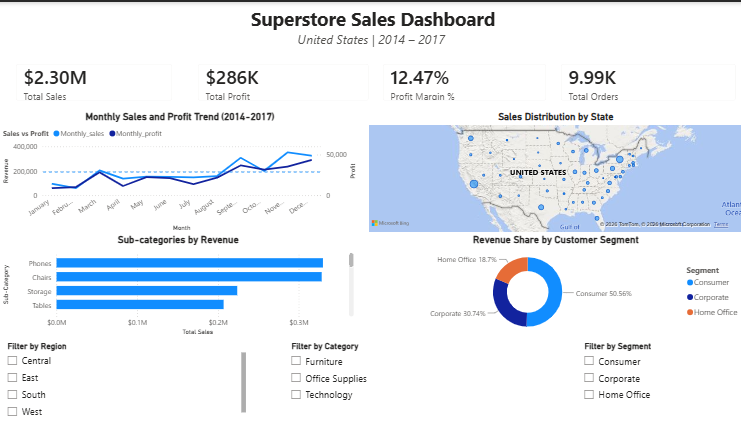

Layout of this report page (visuals, bound fields, positions):
{"tool":"powerbi","page":{"name":"Page 1","canvas":[1280,720],"ordinal":0},"visuals":[{"type":"cardVisual","fields":{"Data":["Sample - Superstore.Total Sales"]},"box":[10.1,89,302.4,97.4],"z":0},{"type":"cardVisual","fields":{"Data":["Sample - Superstore.Total Profit"]},"box":[322.5,89,327.6,97.4],"z":1000},{"type":"cardVisual","fields":{"Data":["Sample - Superstore.Profit Margin %"]},"box":[640,89,314.1,97.4],"z":2000},{"type":"cardVisual","fields":{"Data":["Sample - Superstore.Total Orders"]},"box":[945.7,89,334.3,97.4],"z":3000},{"type":"lineChart","title":"Monthly Sales and Profit Trend (2014-2017)","fields":{"Y":["Sum(Monthly_trend. Monthly_sales )"],"Y2":["Sum(Monthly_trend. Monthly_profit )"],"Category":["Monthly_trend.Column3.Variation.Date Hierarchy.Month"]},"box":[0,186.3,616.9,211.9],"z":4000},{"type":"clusteredBarChart","title":"Sub-categories by Revenue","fields":{"Category":["Sample - Superstore.Sub-Category"],"Y":["Sample - Superstore.Total Sales"]},"box":[0,398.2,611.8,179.4],"z":5000},{"type":"map","title":"Sales Distribution by State","fields":{"Category":["Sample - Superstore.State"],"Size":["Sample - Superstore.Total Sales"]},"box":[628.2,186.5,651.8,211.7],"z":6000},{"type":"donutChart","title":"Revenue Share by Customer Segment","fields":{"Y":["Sample - Superstore.Total Sales"],"Category":["Sample - Superstore.Segment"]},"box":[628.2,398.1,651.8,179.7],"z":7000},{"type":"slicer","fields":{"Values":["Sample - Superstore.Region"]},"box":[0,577.8,426.7,142.8],"z":8000},{"type":"slicer","fields":{"Values":["Sample - Superstore.Category"]},"box":[487.1,577.8,409.9,142.8],"z":9000},{"type":"slicer","fields":{"Values":["Sample - Superstore.Segment"]},"box":[989.4,577.8,290.6,142.8],"z":10000},{"type":"textbox","box":[0,1.7,1280,87.3],"z":11000}]}

Visuals, with their boxes in screenshot pixels (x1, y1, x2, y2), scaled from the page's 1280x720 canvas onto the 741x421 screenshot:
cardVisual - Sample - Superstore.Total Sales: l=6, t=52, r=181, b=109
cardVisual - Sample - Superstore.Total Profit: l=187, t=52, r=376, b=109
cardVisual - Sample - Superstore.Profit Margin %: l=370, t=52, r=552, b=109
cardVisual - Sample - Superstore.Total Orders: l=547, t=52, r=740, b=109
"Monthly Sales and Profit Trend (2014-2017)" lineChart: l=0, t=109, r=357, b=233
"Sub-categories by Revenue" clusteredBarChart: l=0, t=233, r=354, b=338
"Sales Distribution by State" map: l=364, t=109, r=740, b=233
"Revenue Share by Customer Segment" donutChart: l=364, t=233, r=740, b=338
slicer - Sample - Superstore.Region: l=0, t=338, r=247, b=420
slicer - Sample - Superstore.Category: l=282, t=338, r=519, b=420
slicer - Sample - Superstore.Segment: l=573, t=338, r=740, b=420
textbox: l=0, t=1, r=740, b=52
